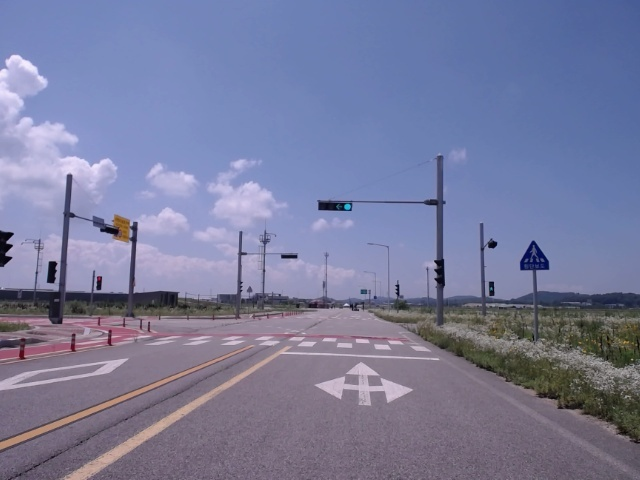all_green_4: (317, 198, 354, 211)
